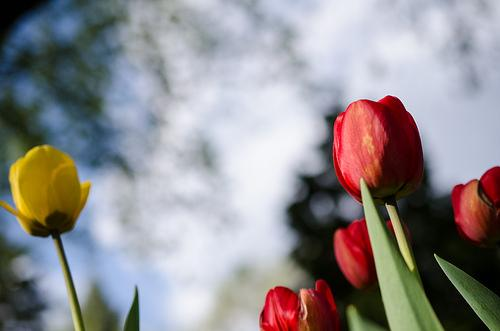tulip: (332, 95, 423, 199), (2, 144, 91, 235), (260, 280, 339, 331), (451, 167, 500, 245), (290, 21, 290, 21)
